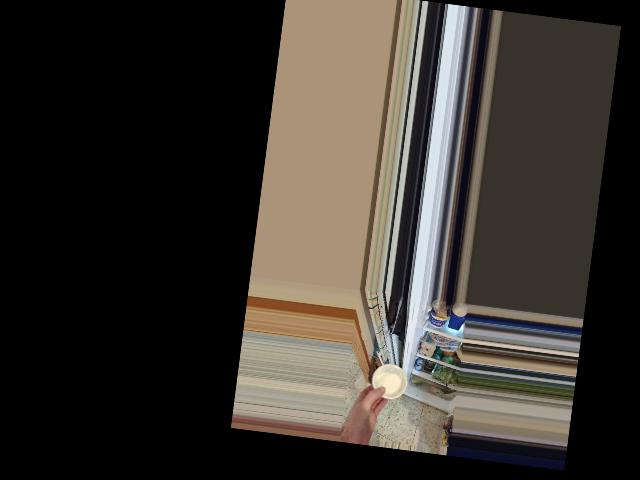cotage: (369, 359, 410, 399)
